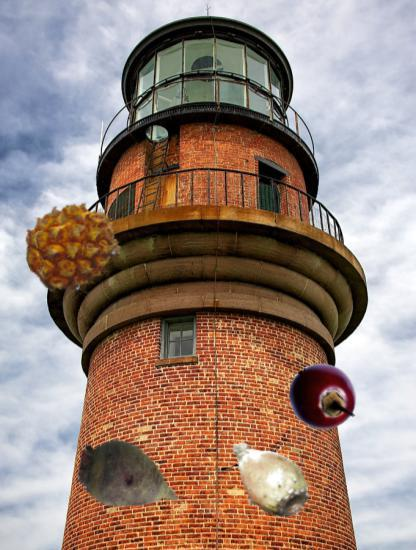Beetroot: (76, 422, 186, 532)
Cactus: (219, 430, 315, 526)
Pineapple: (24, 198, 121, 295)
Tamarillo: (288, 363, 358, 433)
